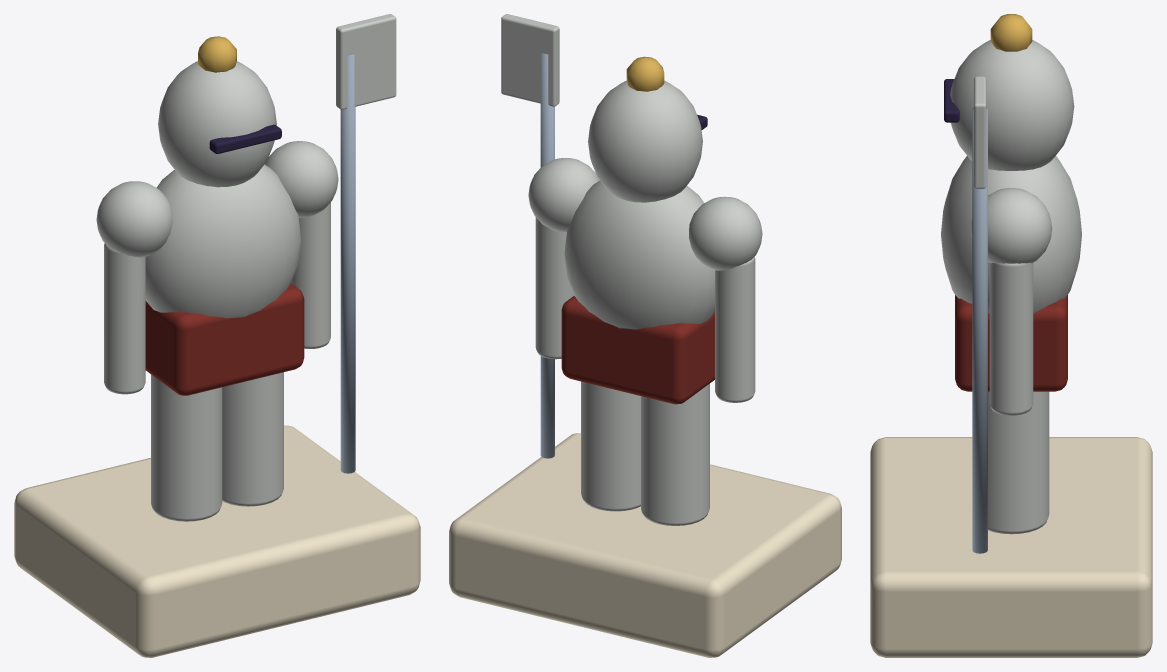
Rendered from armor.glb.
3 renders of one model, left to right at view 1: azimuth 30°, elevation 25°; view 2: azimuth 150°, elevation 25°; view 3: azimuth 270°, elevation 25°, orthographic. The views are drawn at different scales.
Parts seen in each view (by area): view 1: armor; view 2: armor; view 3: armor.
Part boxes in pixels (bbox=[...]): armor: bbox=[14, 14, 420, 657]; armor: bbox=[449, 14, 841, 657]; armor: bbox=[870, 14, 1152, 657].
Size of the model in its own units: 1.18 by 2.02 by 0.9.
